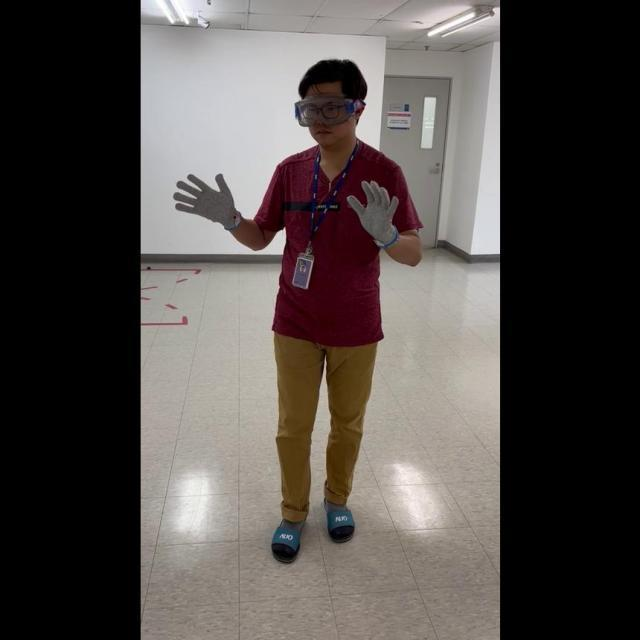gloved_hand: (172, 167, 243, 230), (345, 175, 401, 247)
